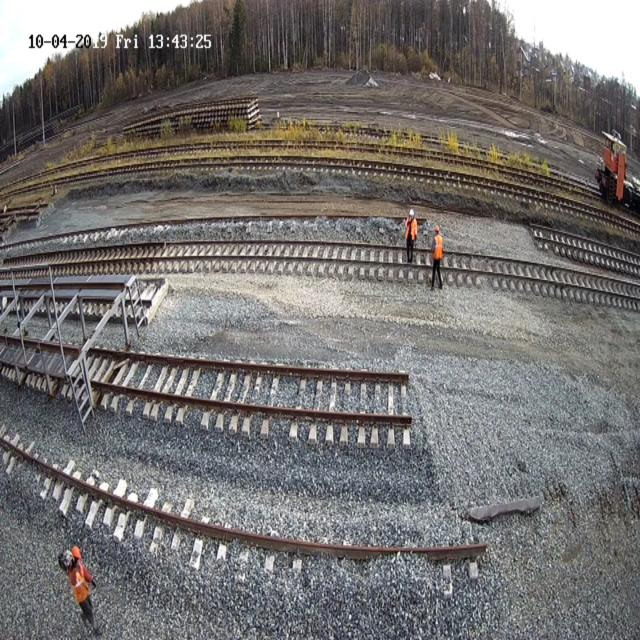Helmet: (72, 545, 81, 559), (409, 208, 414, 216), (434, 226, 439, 233)
Person: (66, 545, 103, 639), (430, 226, 444, 290), (405, 208, 417, 263)
